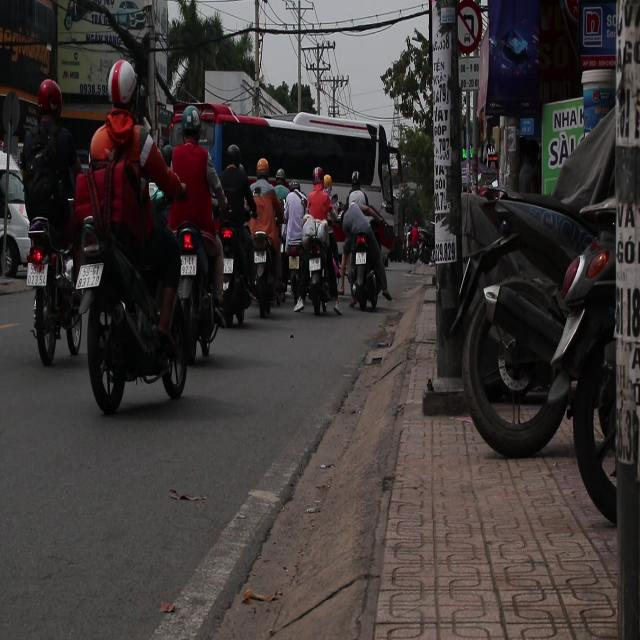bus: (170, 102, 391, 215)
car: (1, 168, 31, 280)
motorbike: (72, 228, 186, 408), (162, 208, 228, 380), (31, 214, 86, 389), (208, 199, 255, 340), (272, 196, 310, 321), (243, 209, 281, 327), (303, 212, 338, 325)
